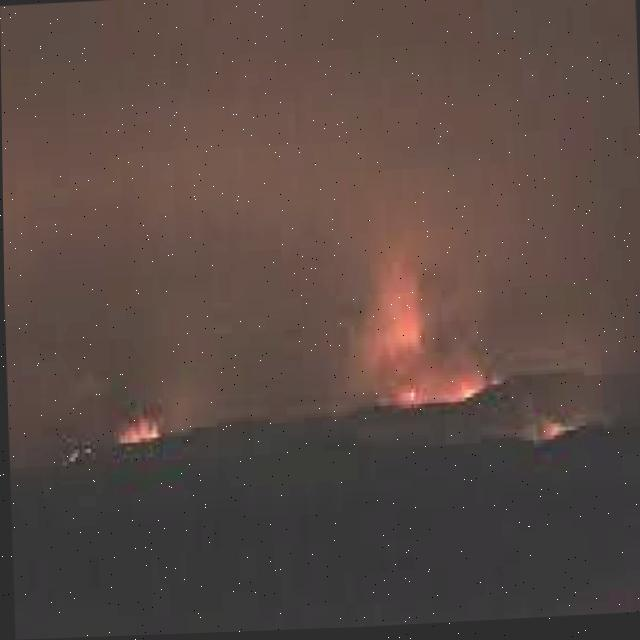smoke: (0, 0, 640, 460)
